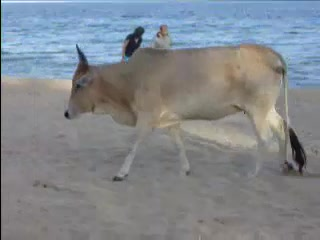cow: (65, 44, 308, 184)
